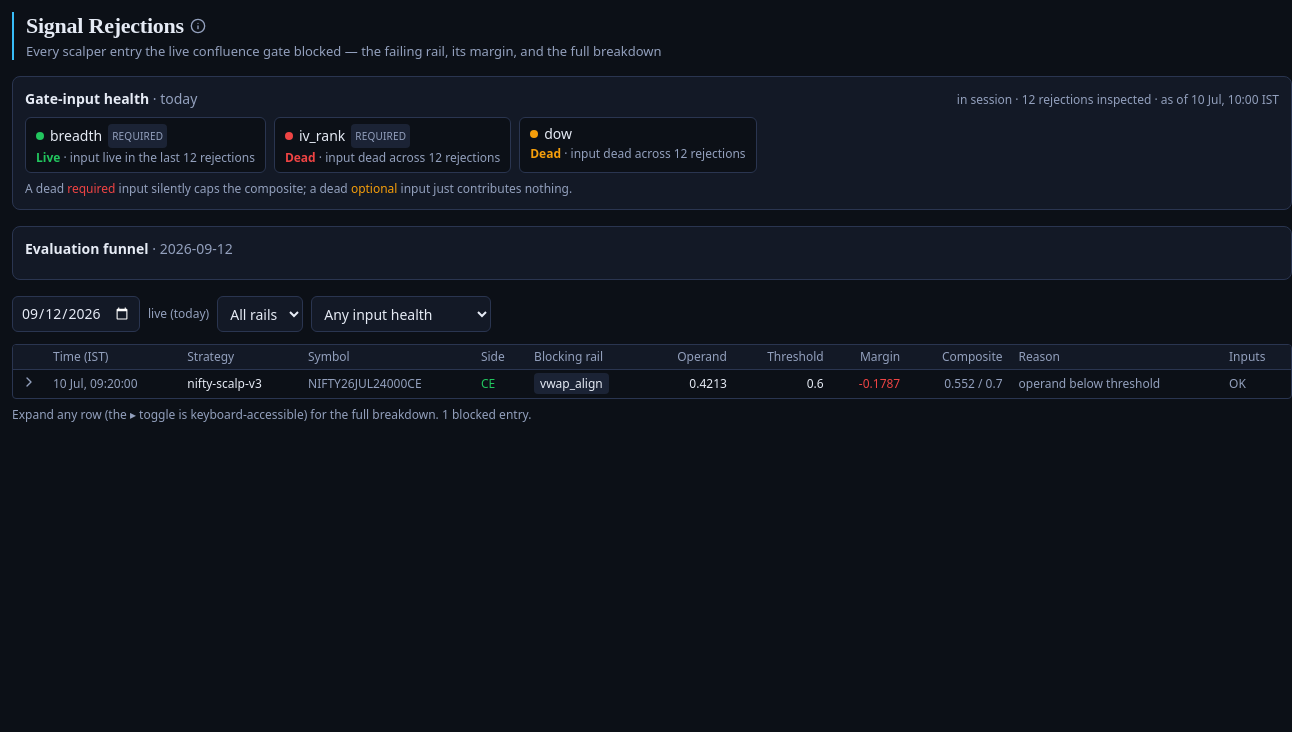
Scenario: RejectionsPage main table (adopted onto DataTable) › exposes a keyboard-accessible expander <button aria-expanded> that reveals the RejectionDetail breakdown
Check: the text "Rails evaluated" is not shown
Click the button named "Expand details" at coordinates (29, 382), box x1=21 y1=374 x2=37 y2=390
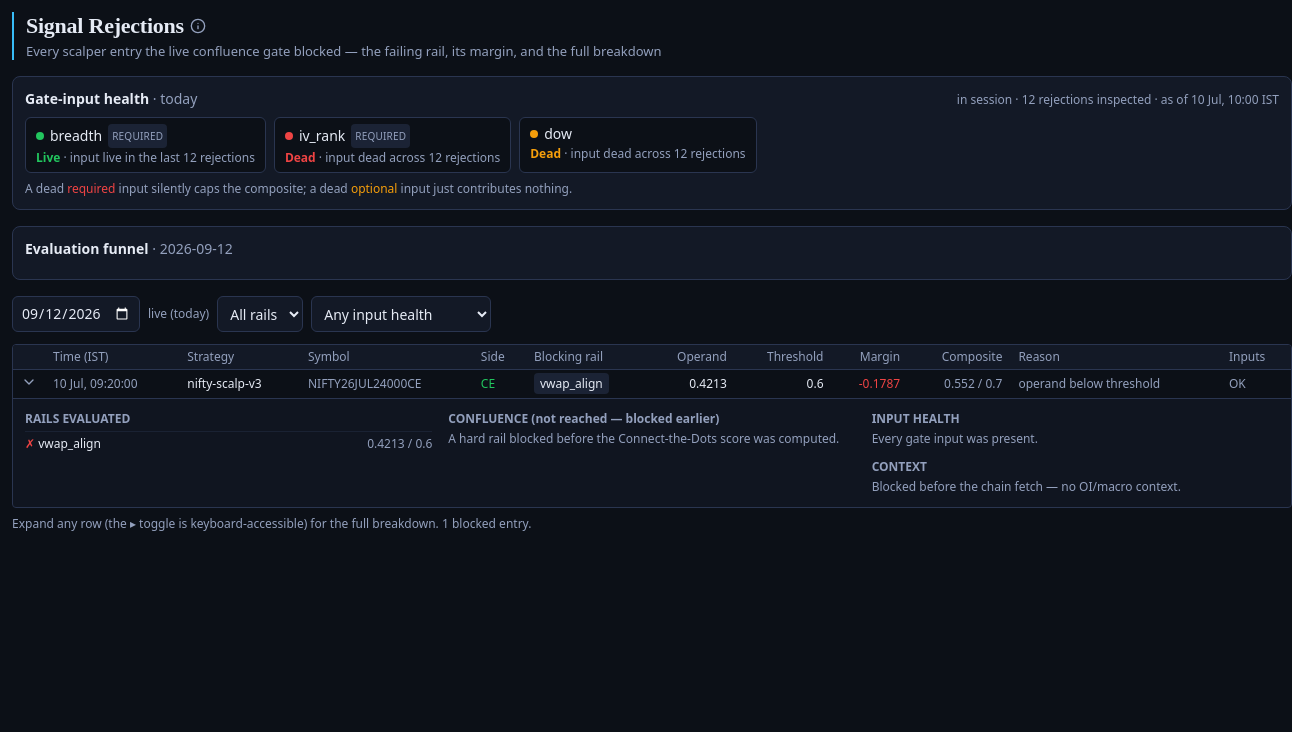
Check: the button named "Collapse details" is expanded, box x1=21 y1=374 x2=37 y2=390
Check: the heading "Rails evaluated" is shown, box x1=25 y1=410 x2=130 y2=427
Check: the heading "Context" is shown, box x1=872 y1=458 x2=927 y2=475
